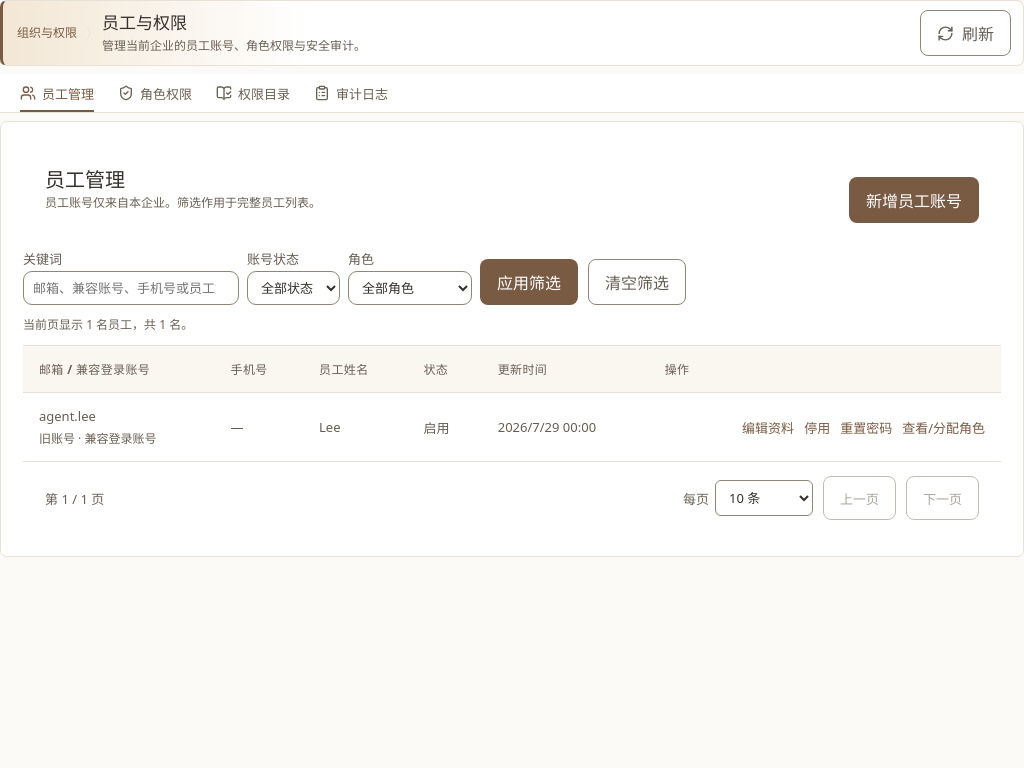
IAM console assignment and session loops › resets a member password directly without issuing a credential token
The width and height of the screenshot is (1024, 768).
Expected: the text "agent.lee" is shown, [39,407,96,425]
Click the button "重置密码" at (866, 427), box [840,409,892,445]
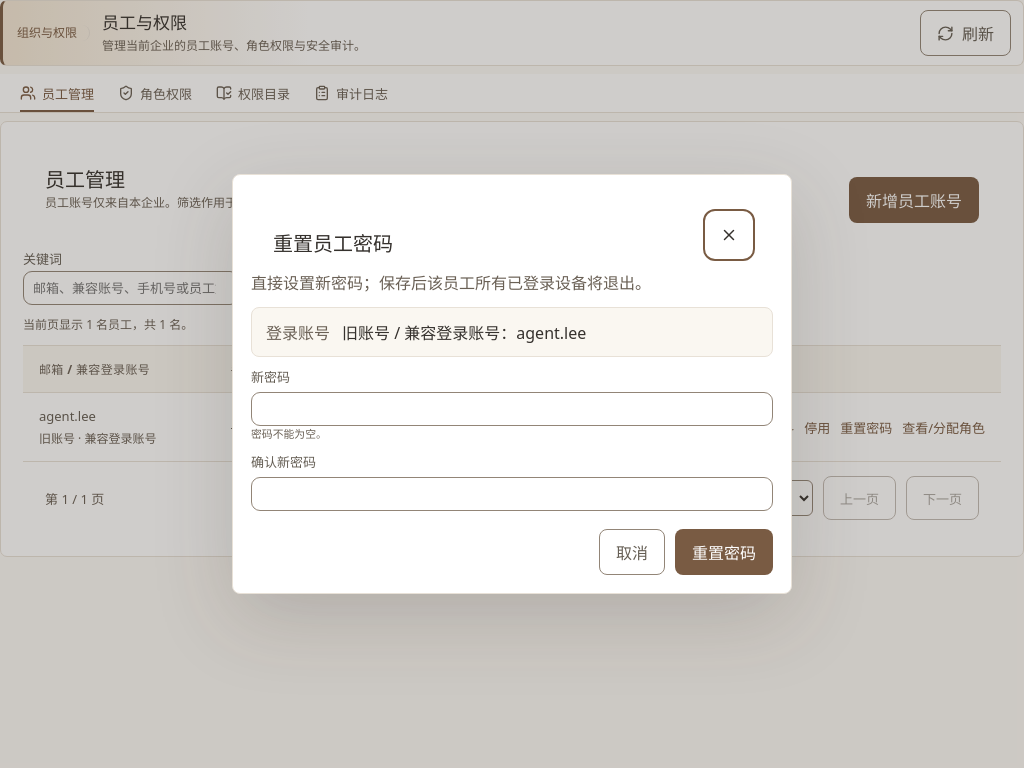
Type "123456" into the password field labelled "新密码 密码不能为空。" at (512, 409), box [251,392,773,426]
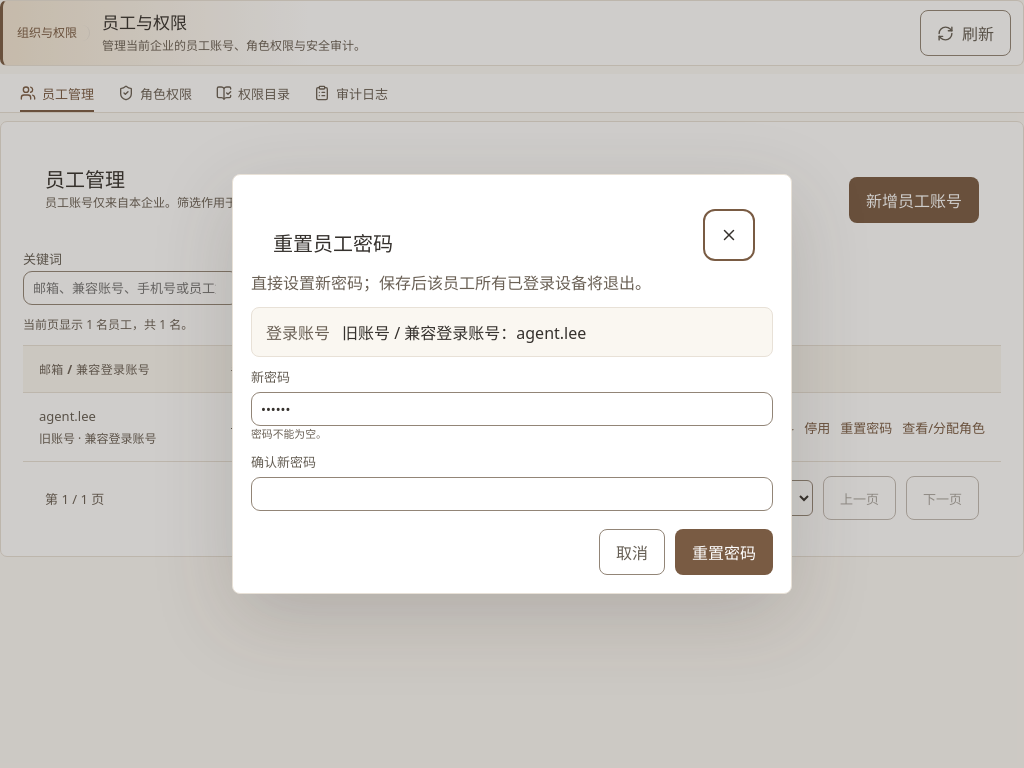
Type "123456" into the password field labelled "确认新密码" at (512, 494), box [251,477,773,511]
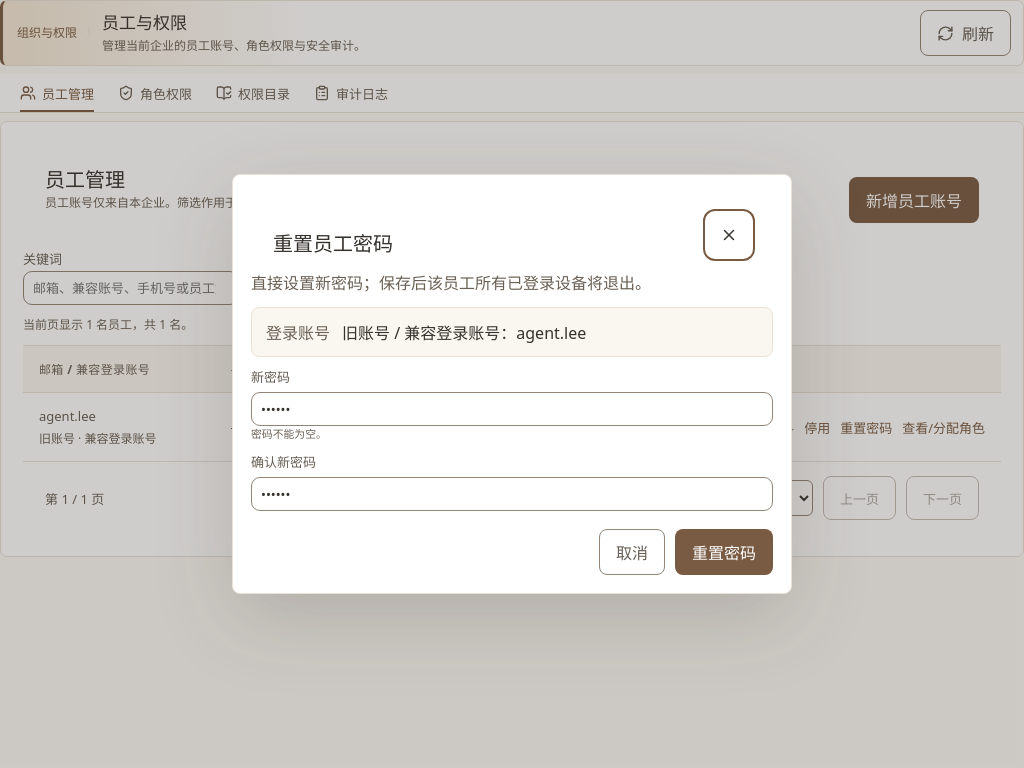
Click the button "重置密码" at (724, 552), box [675,529,773,575]
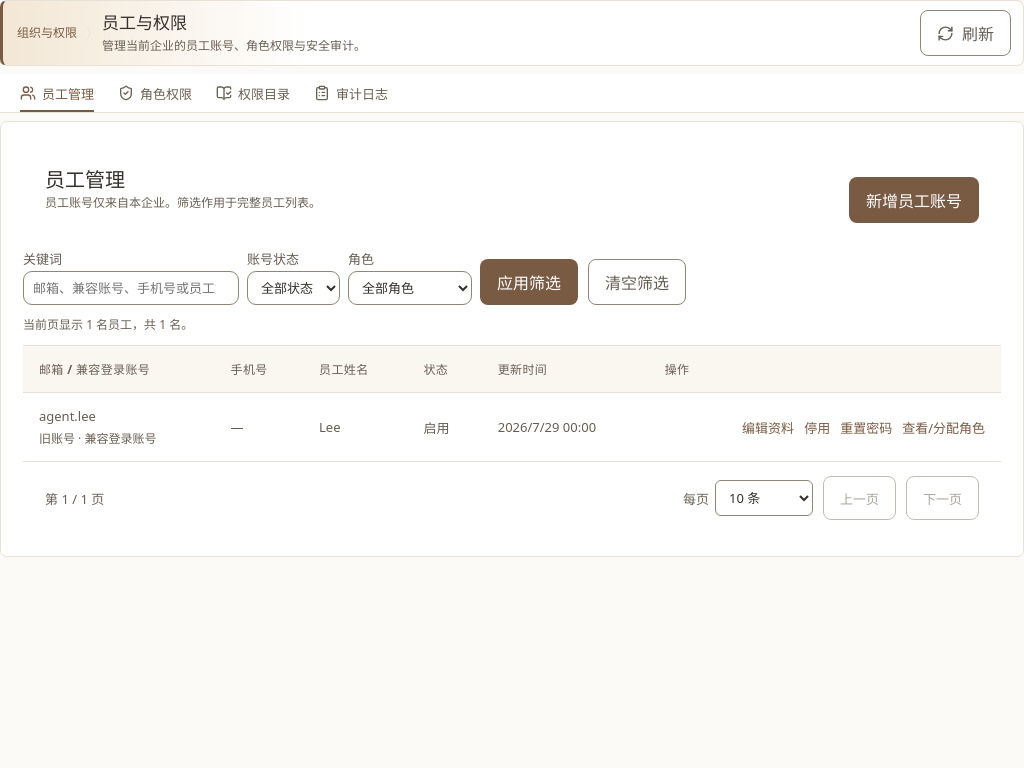
Expected: the heading "重置员工密码" is gone
